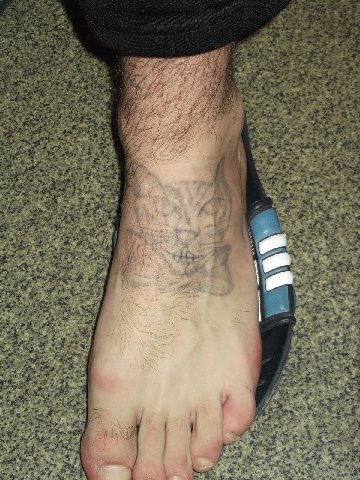tatu8_kot: (114, 159, 241, 300)
